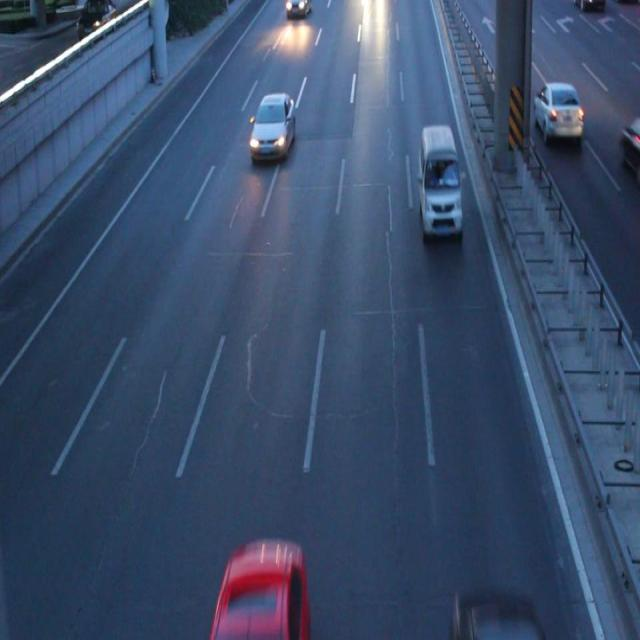car: (216, 545, 304, 640), (250, 93, 294, 157), (532, 83, 581, 137), (285, 1, 309, 14)
truck: (416, 126, 461, 235)
